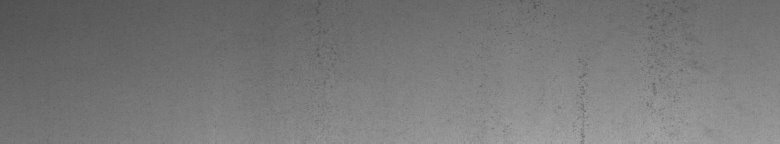ib: (578, 7, 687, 112)
